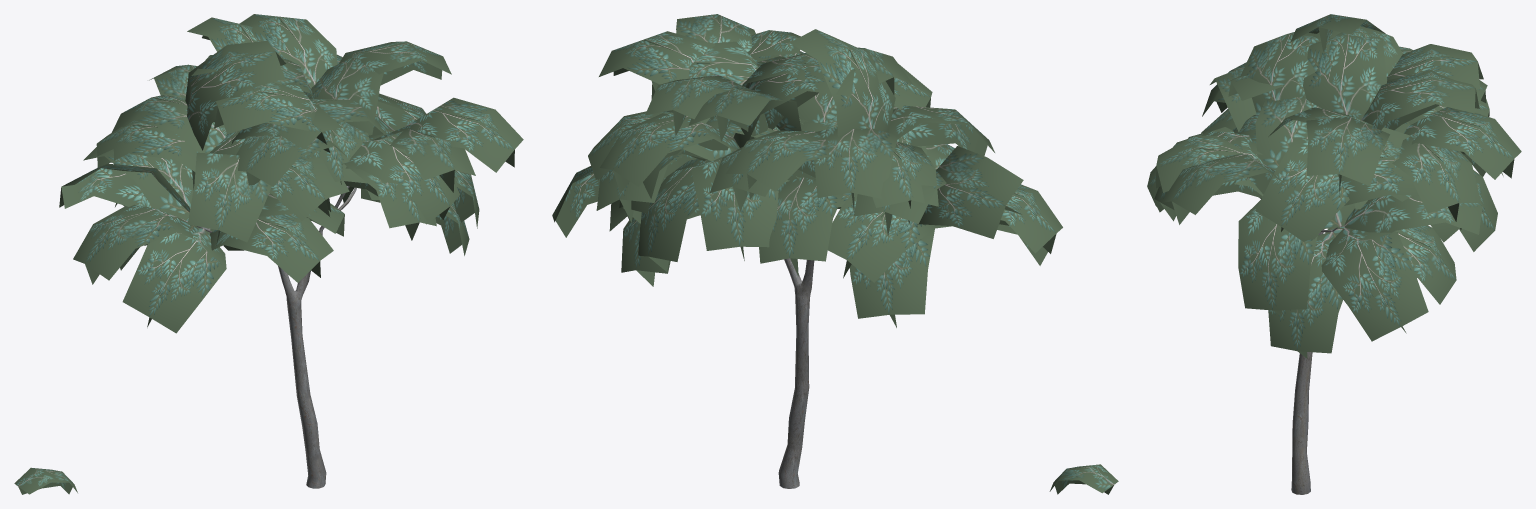
The model's file is gum_tree1.obj.
The picture shows the model from 3 angles, left to right: view 1: azimuth 30°, elevation 25°; view 2: azimuth 150°, elevation 25°; view 3: azimuth 270°, elevation 25°; orthographic projection. The views are drawn at different scales.
Parts seen in each view (by area): view 1: Plane_branch, Plane.051_branch, Plane.009_branch, Plane.019_branch, Plane.038_branch, Plane.050_branch, Plane.037_branch, Plane.034_branch, Circle.001, Plane.023_branch, Plane.001_branch, Plane.018_branch (+19 smaller); view 2: Plane.001_branch, Plane.051_branch, Plane.026_branch, Plane.029_branch, Plane.007_branch, Plane.016_branch, Plane.012_branch, Plane.004_branch, Plane.008_branch, Plane.031_branch, Circle.001, Plane.021_branch (+21 smaller); view 3: Plane.044_branch, Plane.048_branch, Plane.022_branch, Plane.024_branch, Plane.026_branch, Plane.047_branch, Plane.021_branch, Plane.023_branch, Plane.028_branch, Plane.038_branch, Plane.034_branch, Plane.045_branch (+15 smaller).
Part boxes in pixels (x1,y1,x2,y2): Plane_branch: (122, 227, 226, 333); Plane.051_branch: (185, 40, 286, 150); Plane.009_branch: (187, 152, 271, 245); Plane.019_branch: (73, 204, 198, 284); Plane.038_branch: (404, 97, 523, 172); Plane.050_branch: (210, 213, 333, 282); Plane.037_branch: (345, 131, 459, 224); Plane.034_branch: (214, 82, 330, 150); Circle.001: (197, 186, 356, 488); Plane.023_branch: (239, 14, 337, 88); Plane.001_branch: (59, 163, 189, 220); Plane.018_branch: (96, 120, 197, 171); Plane.001_branch: (917, 146, 1023, 238); Plane.051_branch: (790, 29, 895, 137); Plane.026_branch: (600, 113, 739, 193); Plane.029_branch: (691, 150, 778, 260); Plane.007_branch: (814, 127, 898, 211); Plane.016_branch: (759, 177, 843, 276); Plane.012_branch: (828, 193, 933, 282); Plane.004_branch: (849, 225, 934, 327); Plane.008_branch: (725, 130, 830, 199); Plane.031_branch: (638, 166, 698, 271); Circle.001: (733, 135, 814, 488); Plane.021_branch: (599, 31, 714, 84); Plane.044_branch: (1321, 227, 1428, 341); Plane.048_branch: (1238, 200, 1317, 316); Plane.022_branch: (1303, 32, 1387, 119); Plane.024_branch: (1255, 137, 1349, 241); Plane.026_branch: (1404, 107, 1521, 179); Plane.047_branch: (1268, 231, 1342, 358); Plane.021_branch: (1306, 116, 1389, 196); Plane.023_branch: (1361, 70, 1479, 130); Plane.028_branch: (1392, 135, 1481, 221); Plane.038_branch: (1161, 153, 1288, 224); Plane.034_branch: (1240, 32, 1319, 114); Plane.045_branch: (1344, 195, 1482, 234).
Bounding box in the file's own units: 41.22 × 36.48 × 27.68.
2 materials, 2 textured.
